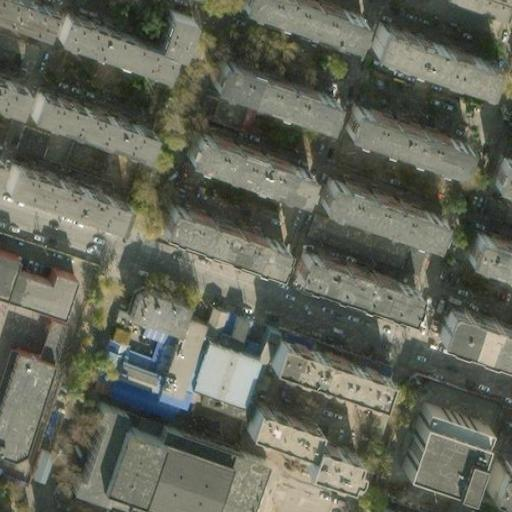building: (93, 416, 266, 512), (98, 367, 237, 439), (244, 397, 363, 480), (204, 51, 331, 122), (368, 24, 497, 92), (53, 28, 178, 96), (6, 163, 132, 230), (393, 398, 482, 491), (350, 108, 477, 173), (186, 119, 310, 185), (320, 168, 444, 233), (299, 244, 423, 308), (31, 92, 153, 157), (161, 193, 282, 257), (270, 337, 390, 400), (302, 210, 419, 274), (426, 298, 512, 362), (66, 407, 122, 502), (187, 341, 256, 411), (245, 0, 359, 39), (1, 261, 76, 311), (125, 290, 191, 343), (13, 121, 73, 167), (456, 225, 512, 271), (206, 93, 257, 134), (107, 355, 167, 386), (157, 27, 197, 73), (29, 305, 61, 353), (0, 0, 45, 32), (483, 146, 512, 183), (203, 309, 241, 336), (31, 446, 57, 484), (0, 76, 25, 109), (0, 242, 16, 288), (368, 500, 406, 512)
